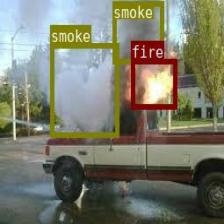fire: (130, 58, 176, 108)
smoke: (50, 42, 119, 136), (112, 0, 162, 63)
